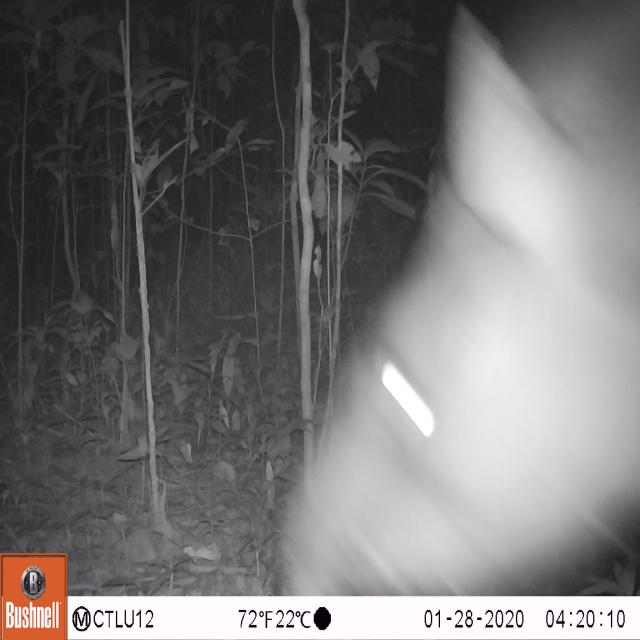Lowland Tapir: (243, 0, 639, 593)
